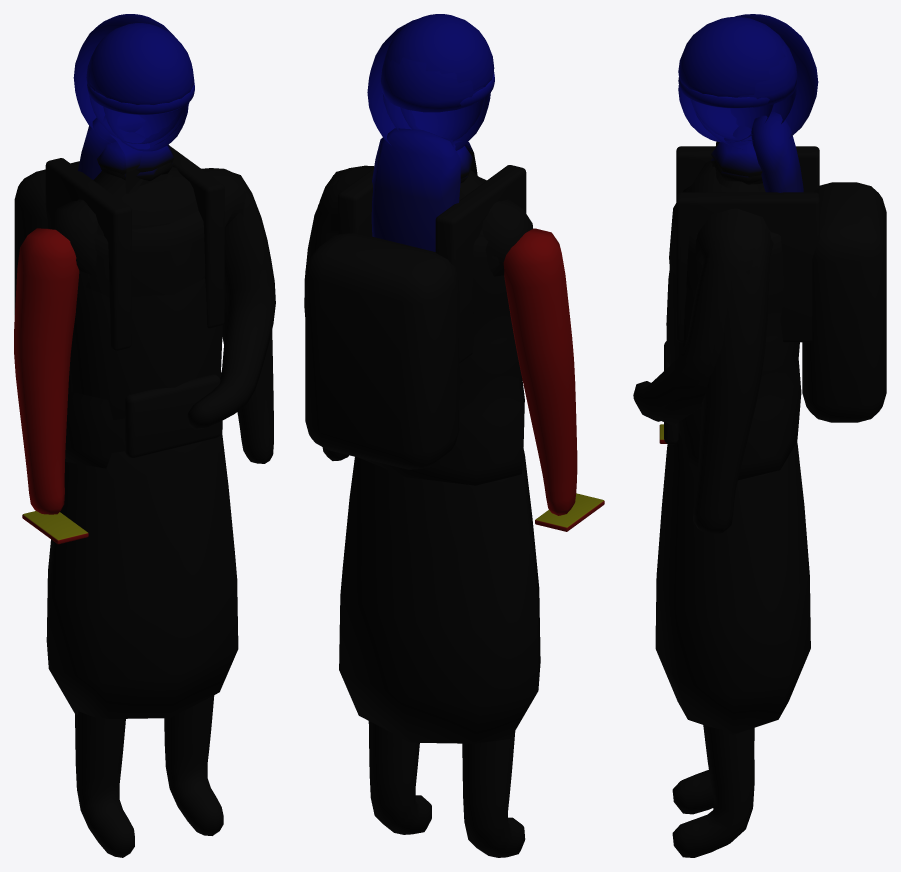
The model's file is funeral_crowd.glb.
3 views of the same model, side by side, from view 1: azimuth 30°, elevation 25°; view 2: azimuth 150°, elevation 25°; view 3: azimuth 270°, elevation 25° (orthographic). The views are drawn at different scales.
Parts seen in each view (by area): view 1: person_2, person_3, person_1, person_0; view 2: person_3, person_2, person_0, person_1; view 3: person_3, person_2, person_0, person_1.
Boxes of the visible parts, x1,y1,x2,y2 form: person_2: (46,95,275,718); person_3: (14,23,273,499); person_1: (69,14,226,457); person_0: (22,55,273,857); person_3: (304,14,577,515); person_2: (319,93,540,743); person_0: (318,56,604,857); person_1: (367,18,521,393); person_3: (669,16,886,518); person_2: (633,80,810,734); person_0: (659,39,797,857); person_1: (658,14,818,444).
Size of the model in its own units: 0.5895 by 1.82 by 0.5117.
